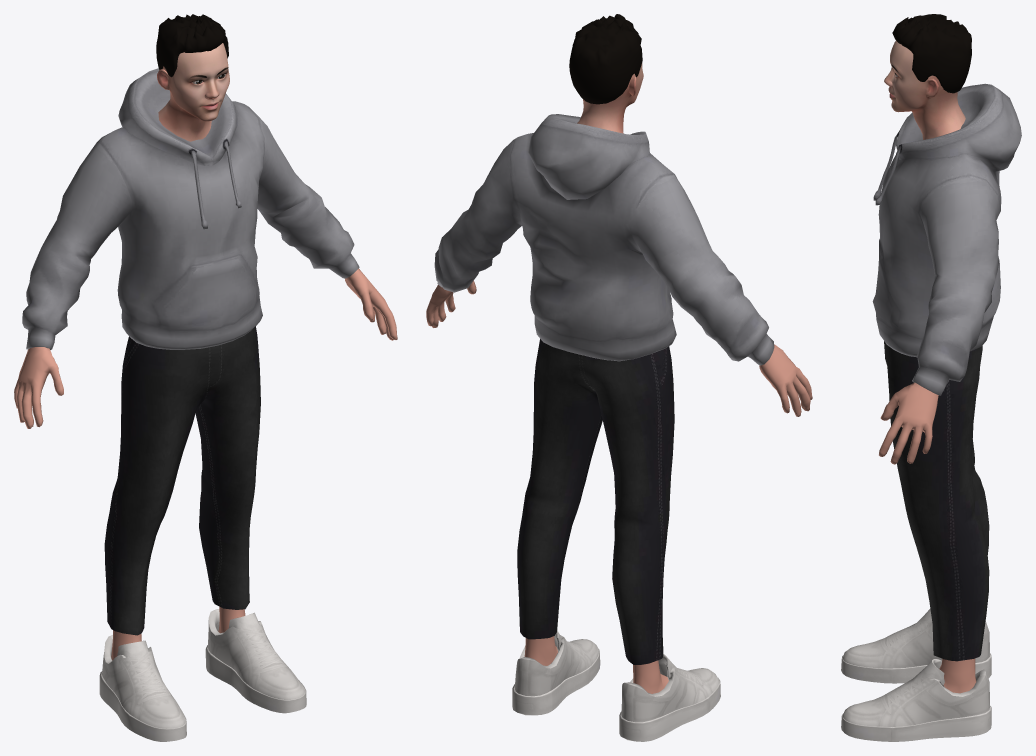
File: main.glb
The picture shows the model from 3 angles, left to right: view 1: azimuth 30°, elevation 25°; view 2: azimuth 150°, elevation 25°; view 3: azimuth 270°, elevation 25°; orthographic projection.
Parts seen in each view (by area): view 1: Wolf3D_Outfit_Top, Wolf3D_Outfit_Bottom, Wolf3D_Outfit_Footwear, Wolf3D_Head, Wolf3D_Body, Wolf3D_Hair; view 2: Wolf3D_Outfit_Top, Wolf3D_Outfit_Bottom, Wolf3D_Outfit_Footwear, Wolf3D_Hair, Wolf3D_Body, Wolf3D_Head; view 3: Wolf3D_Outfit_Top, Wolf3D_Outfit_Bottom, Wolf3D_Outfit_Footwear, Wolf3D_Hair, Wolf3D_Body, Wolf3D_Head.
Boxes of the visible parts, box(x1,y1,x2,y2) form: Wolf3D_Outfit_Top: box(22, 68, 359, 349); Wolf3D_Outfit_Bottom: box(104, 326, 260, 635); Wolf3D_Outfit_Footwear: box(99, 609, 306, 741); Wolf3D_Head: box(157, 43, 229, 141); Wolf3D_Body: box(14, 268, 397, 660); Wolf3D_Hair: box(156, 14, 228, 77); Wolf3D_Outfit_Top: box(434, 114, 774, 365); Wolf3D_Outfit_Bottom: box(517, 339, 674, 664); Wolf3D_Outfit_Footwear: box(512, 630, 720, 741); Wolf3D_Hair: box(569, 14, 642, 104); Wolf3D_Body: box(426, 280, 812, 693); Wolf3D_Head: box(577, 63, 643, 133); Wolf3D_Outfit_Top: box(872, 83, 1021, 395); Wolf3D_Outfit_Bottom: box(884, 341, 989, 661); Wolf3D_Outfit_Footwear: box(841, 609, 991, 741); Wolf3D_Hair: box(892, 14, 971, 93); Wolf3D_Body: box(879, 382, 976, 693); Wolf3D_Head: box(884, 40, 965, 139).
Size of the model in its own units: 1.06 by 1.86 by 0.4455.
Materials: 8 (8 with a texture image).
